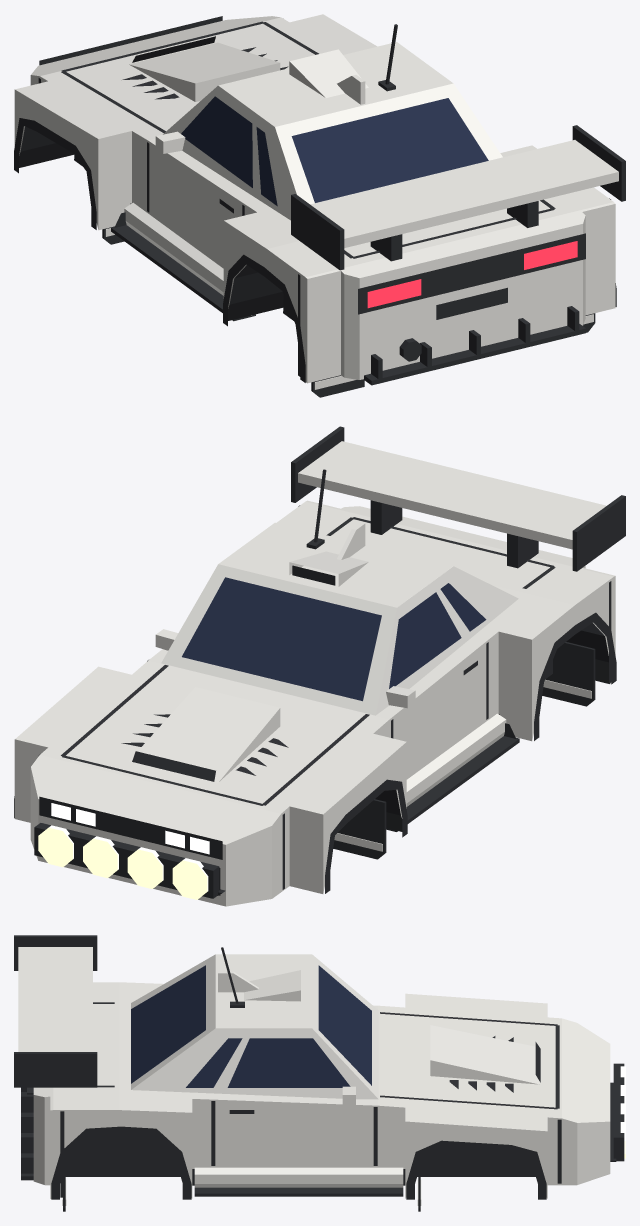
File: Blitz.glb
The picture shows the model from 3 angles, top to bottom: view 1: azimuth 30°, elevation 25°; view 2: azimuth 150°, elevation 25°; view 3: azimuth 270°, elevation 25°; orthographic projection. The views are drawn at different scales.
Visible parts, largest first — view 1: BumperRear, DeckWingBlade, Hood, RearWindow, Pillars, Roof, Fender_FL, Door_FL, DeckWing, Opt_Hood_Scoop_HoodScoop, TailGarnish, Trunk (+23 smaller); view 2: Hood, BumperFront, Windshield, DeckWingBlade, Pillars, Roof, Opt_Hood_Scoop_HoodScoop, Trunk, Door_FL, Fender_RL, Fender_FL, DeckWing (+19 smaller); view 3: Hood, Door_FR, Pillars, DeckWingBlade, BumperFront, WheelWell, Fender_FR, RearWindow, Roof, Opt_Hood_Scoop_HoodScoop, Window_FR, Fender_RR (+15 smaller).
Boxes of the visible parts, x1,y1,x2,y2 form: BumperRear: (301,199,615,383); DeckWingBlade: (310,140,618,247); Hood: (15,14,377,140); RearWindow: (291,98,488,202); Pillars: (163,83,502,220); Roof: (218,42,453,126); Fender_FL: (14,76,148,230); Door_FL: (148,141,246,268); DeckWing: (291,125,625,270); Opt_Hood_Scoop_HoodScoop: (129,42,280,101); TailGarnish: (358,233,585,314); Trunk: (267,187,609,274); Hood: (15,660,406,814); BumperFront: (30,755,280,906); Windshield: (182,577,381,701); DeckWingBlade: (298,441,606,549); Pillars: (161,564,518,715); Roof: (218,522,453,607); Opt_Hood_Scoop_HoodScoop: (129,687,280,782); Trunk: (276,504,609,604); Door_FL: (389,640,487,779); Fender_RL: (487,580,609,741); Fender_FL: (281,719,406,893); DeckWing: (291,426,625,571); Hood: (378,993,561,1131); Door_FR: (211,1099,377,1167); Pillars: (131,954,378,1099); DeckWingBlade: (18,947,92,1051); BumperFront: (562,1018,610,1185); WheelWell: (65,1134,535,1176); Fender_FR: (378,1105,561,1198); RearWindow: (131,965,205,1083); Roof: (215,954,311,1028); Opt_Hood_Scoop_HoodScoop: (430,1025,539,1084); Window_FR: (227,1038,350,1087); Fender_RR: (60,1099,211,1198).
Size of the model in its own units: 6.96 by 5.62 by 13.96.
